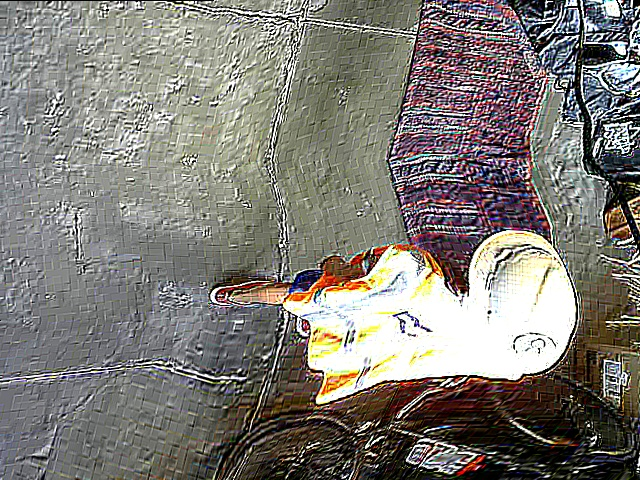eight: (511, 329, 559, 368)
